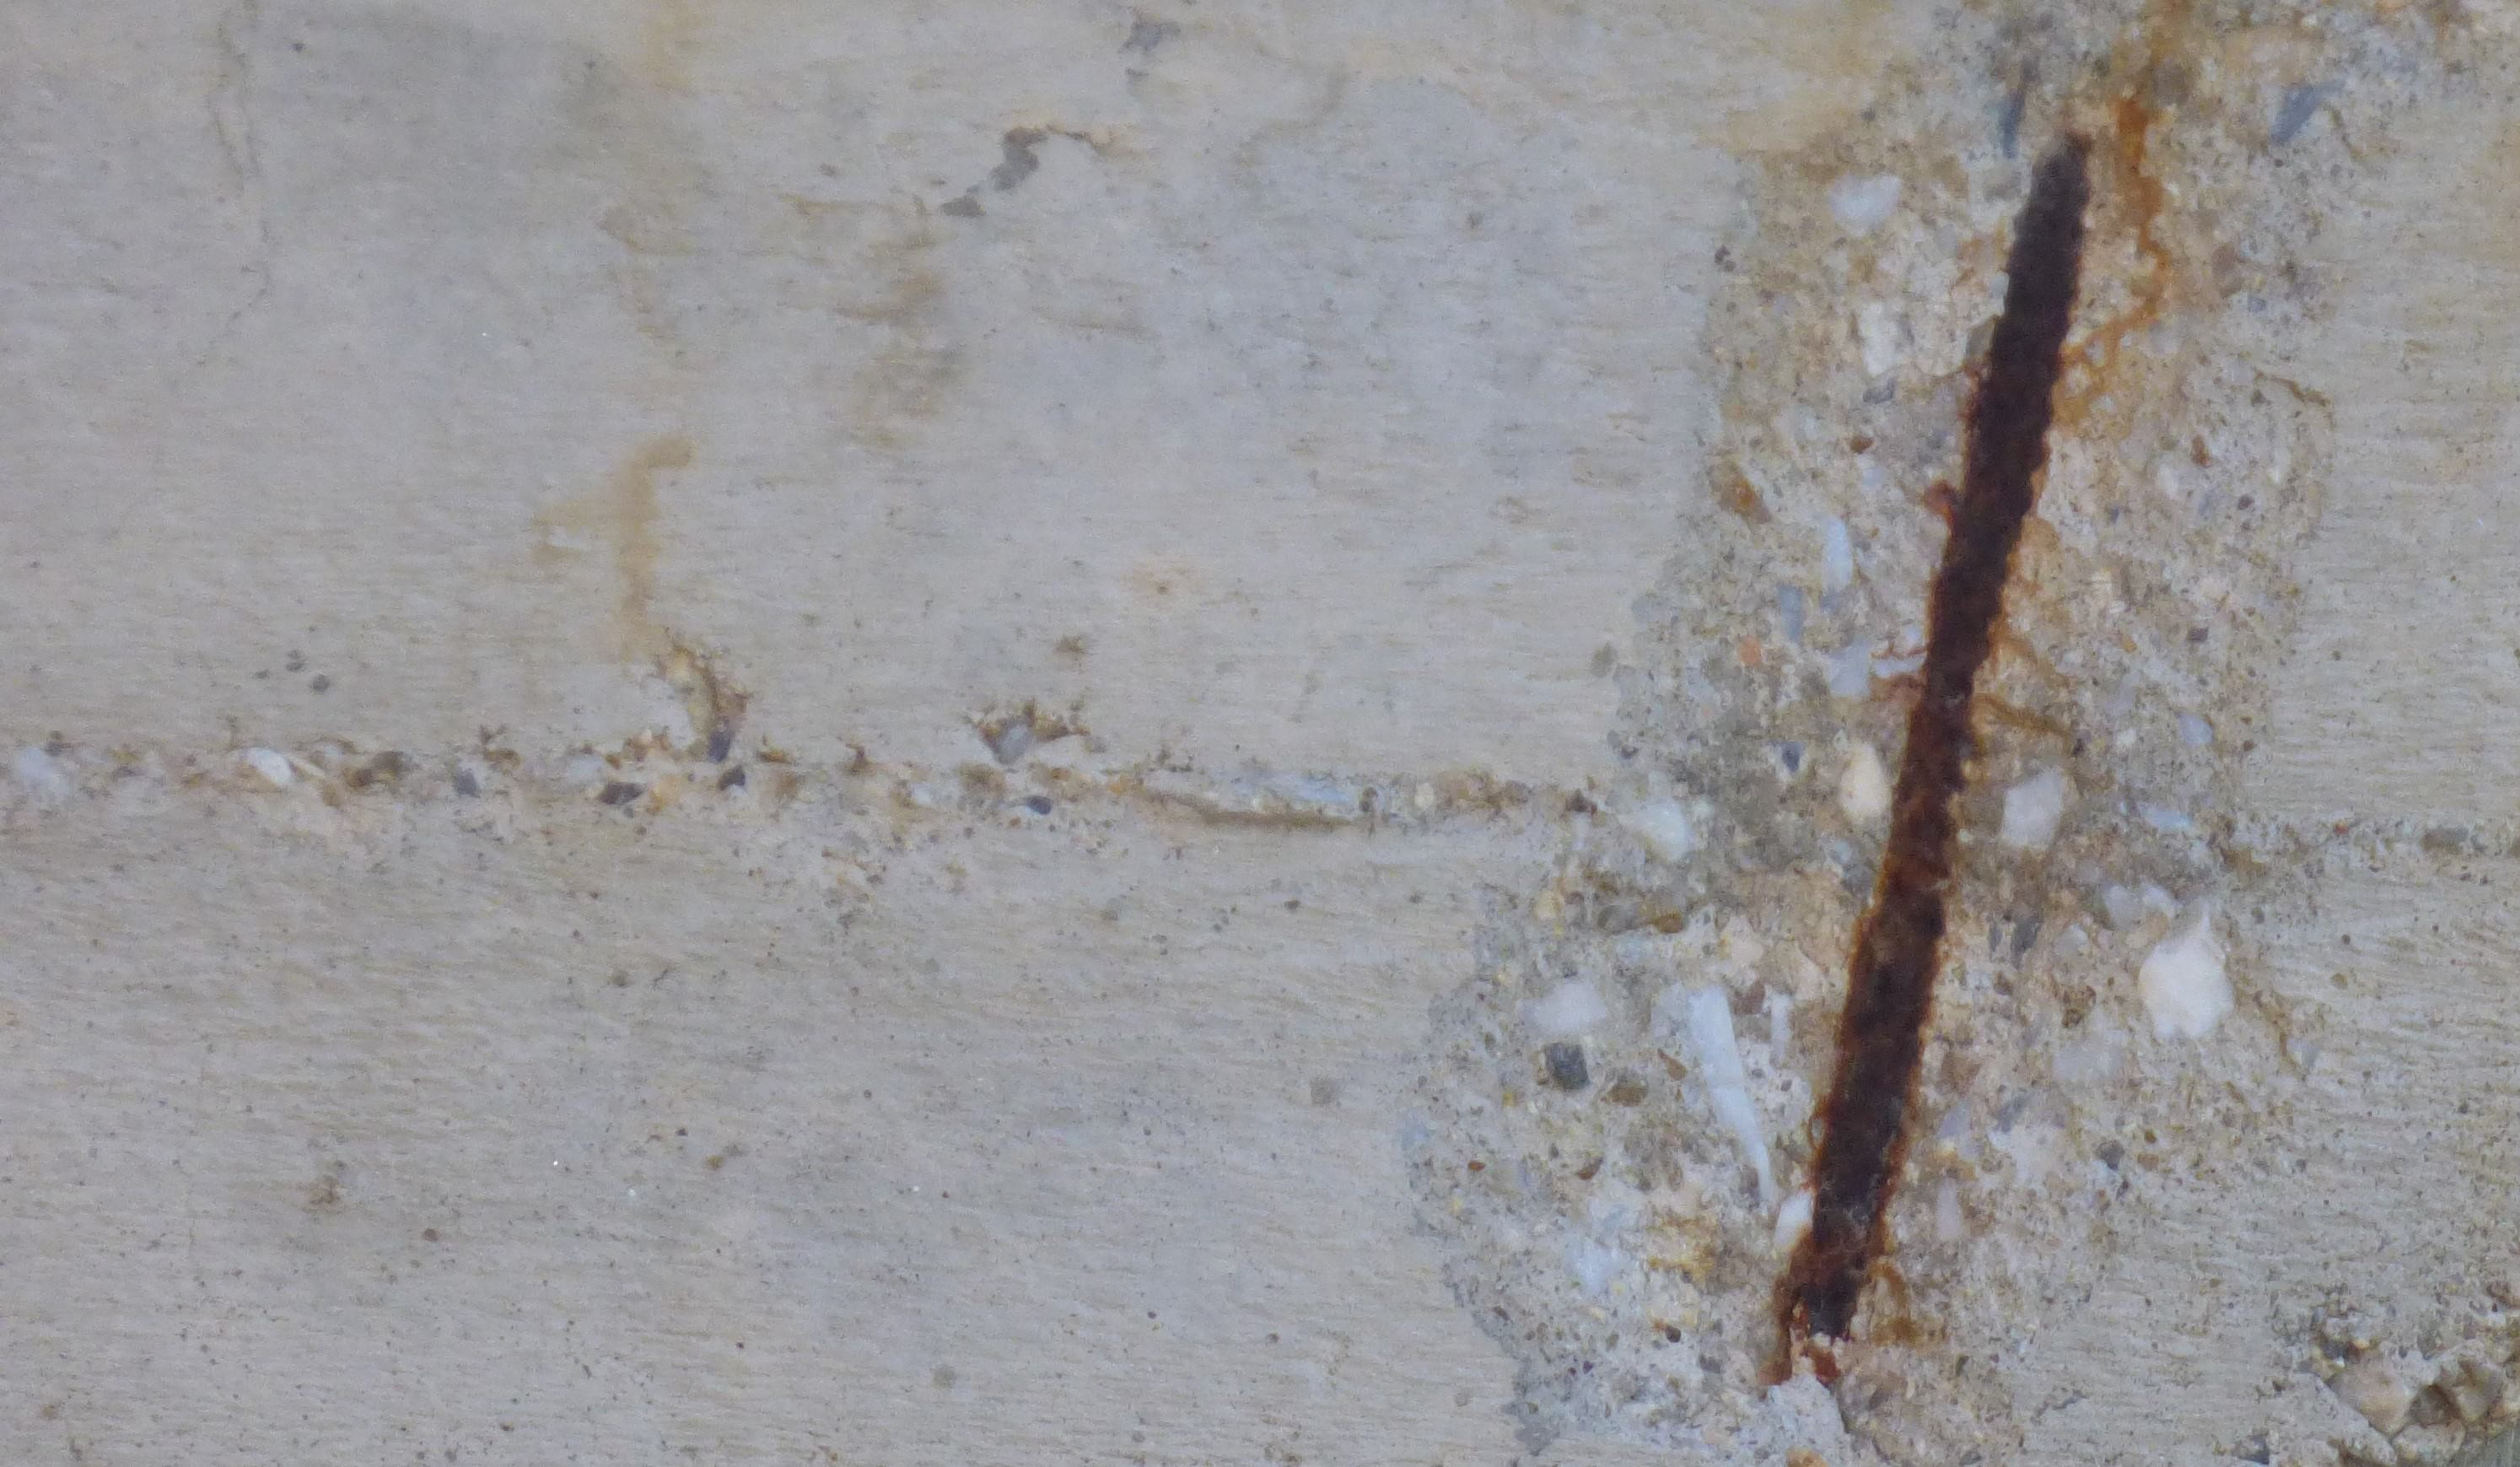Exposed reinforcement: (1775, 126, 2092, 1340)
Spalling: (1389, 0, 2520, 1467)
